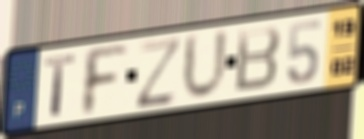5: (285, 17, 322, 87)
B: (233, 23, 283, 95)
F: (81, 43, 131, 119)
T: (42, 51, 78, 119)
U: (180, 26, 231, 103)
Z: (134, 33, 184, 111)
